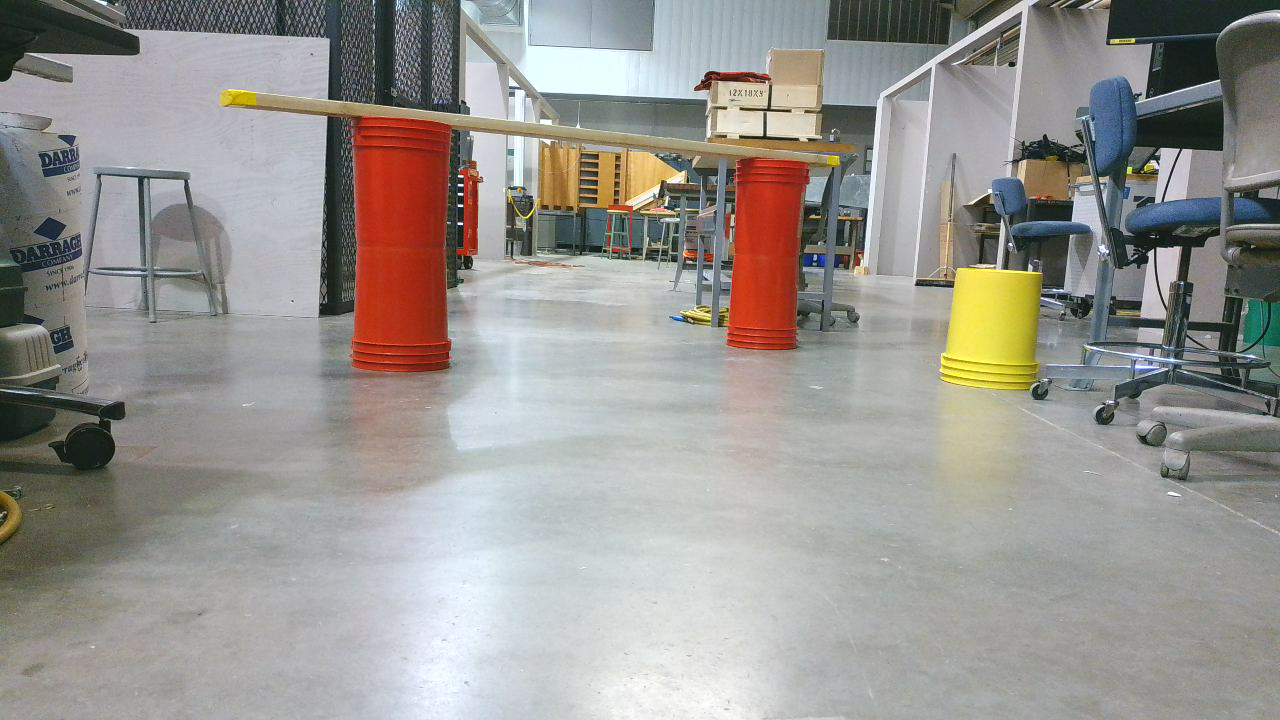red_bucket_arch: (230, 91, 845, 383)
yellow_bucket: (947, 271, 1049, 399)
